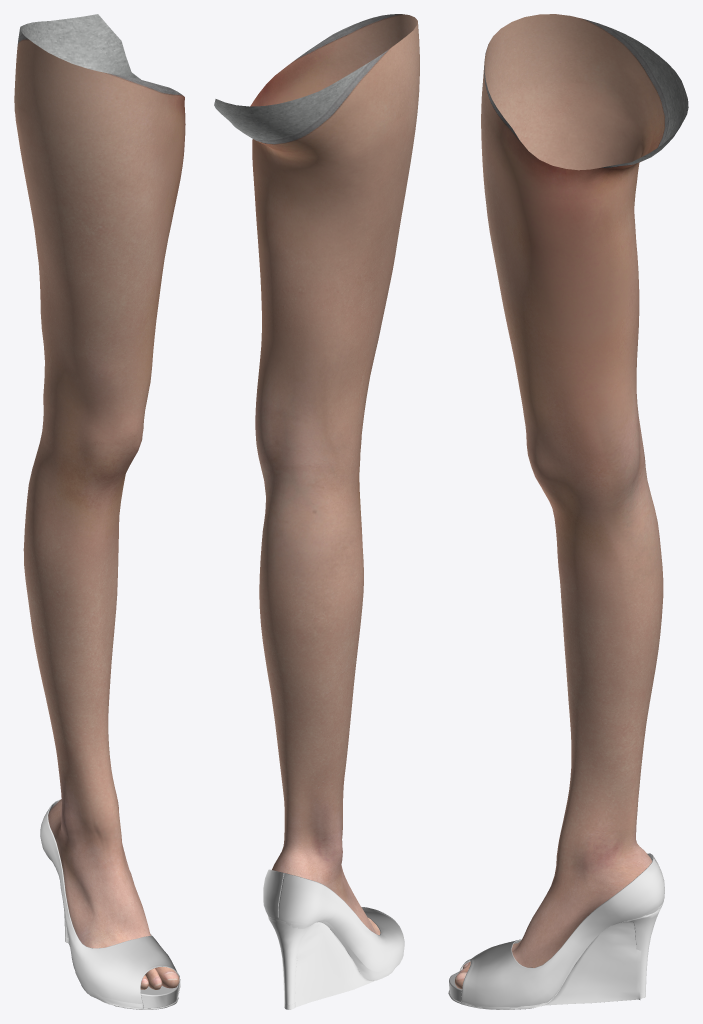
Rendered from PiernaDerecha.fbx.
3 views of the same model, side by side, from view 1: azimuth 30°, elevation 25°; view 2: azimuth 150°, elevation 25°; view 3: azimuth 270°, elevation 25° (orthographic).
Visible parts, largest first — view 1: body.001, shoes_r_Shape; view 2: body.001, shoes_r_Shape; view 3: body.001, shoes_r_Shape.
Part boxes in pixels (x1,y1,x2,y2): body.001: [14, 14, 185, 989]; shoes_r_Shape: [40, 799, 180, 1009]; body.001: [214, 14, 419, 935]; shoes_r_Shape: [263, 869, 404, 1009]; body.001: [455, 14, 688, 989]; shoes_r_Shape: [448, 853, 664, 1009].
Bounding box in the file's own units: 16.93 × 105 × 24.08.
